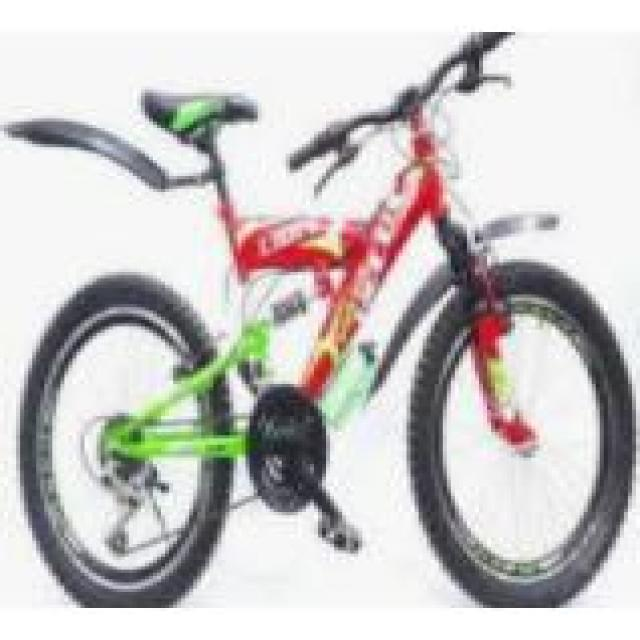bicycle: (41, 81, 629, 574)
